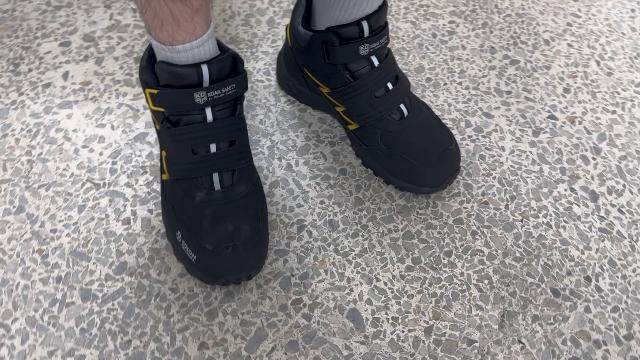shoe_worn: (275, 1, 468, 198), (128, 43, 275, 287)
